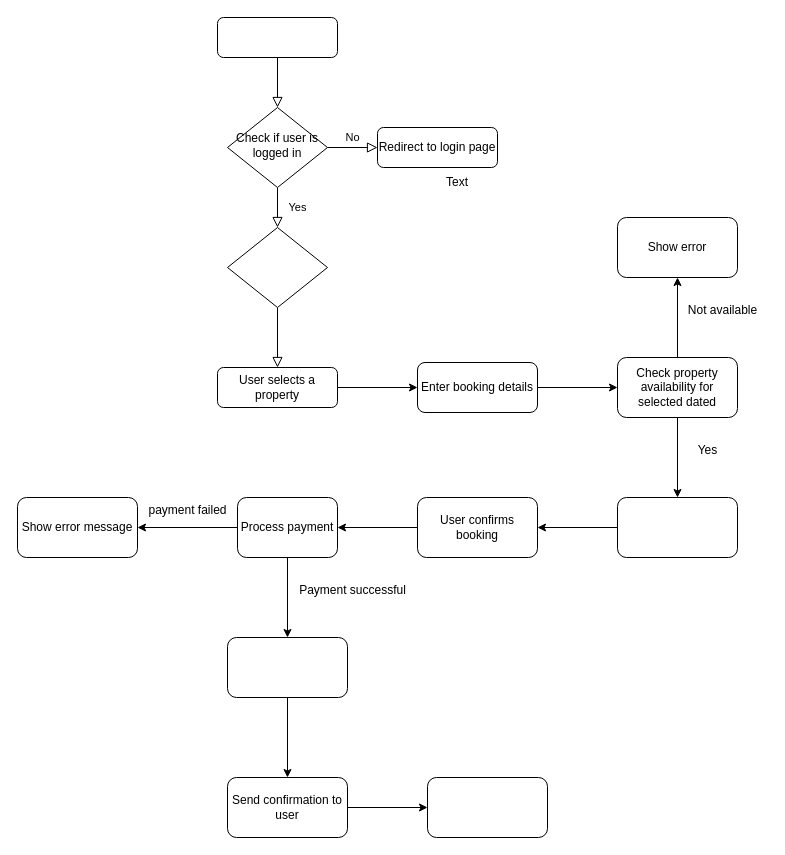
This 785x855 diagram has some shape labels left out. The centre of each missing label's shape, as x and y in pixels:
Calculate total price: the point at 677,527
Display available properties: the point at 277,267
End: the point at 487,807
Save booking in database: the point at 287,667
Start: the point at 277,37
